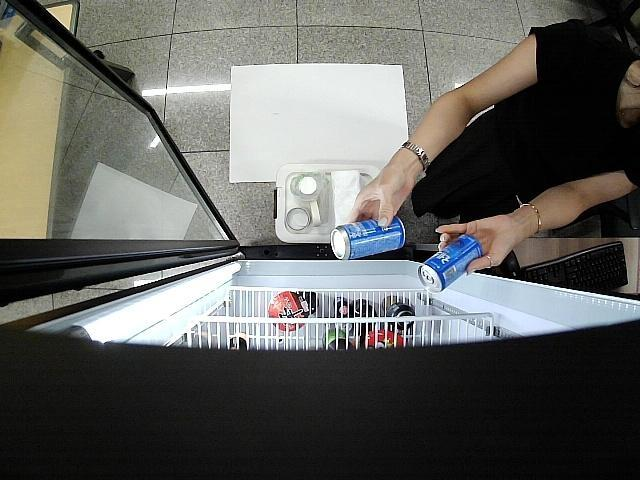15_letsbe: (418, 237, 483, 294), (332, 220, 403, 258)
